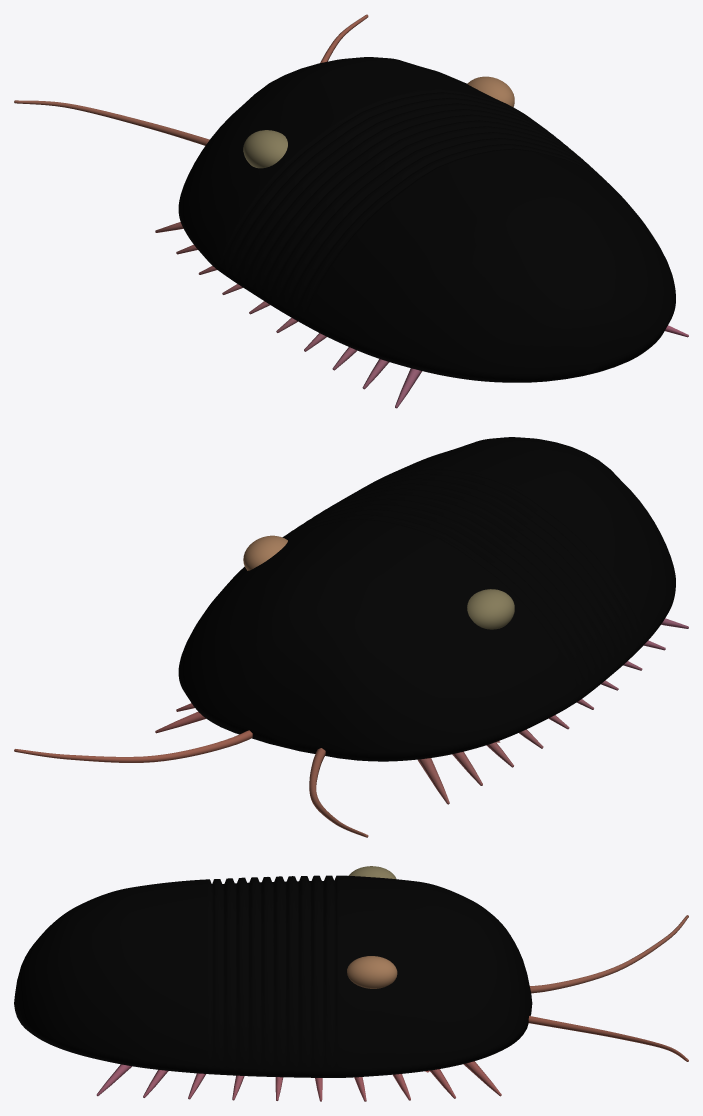
File: trilobite_smooth.glb
3 renders of one model, top to bottom at view 1: azimuth 30°, elevation 25°; view 2: azimuth 150°, elevation 25°; view 3: azimuth 270°, elevation 25°, orthographic. The views are drawn at different scales.
Visible parts, largest first — view 1: trilobite_smooth; view 2: trilobite_smooth; view 3: trilobite_smooth.
Boxes of the visible parts, left/top/right/bottom form: trilobite_smooth: left=14, top=14, right=688, bottom=408; trilobite_smooth: left=14, top=437, right=688, bottom=837; trilobite_smooth: left=14, top=866, right=688, bottom=1101.
Size of the model in its own units: 0.102 by 0.0464 by 0.1953.
